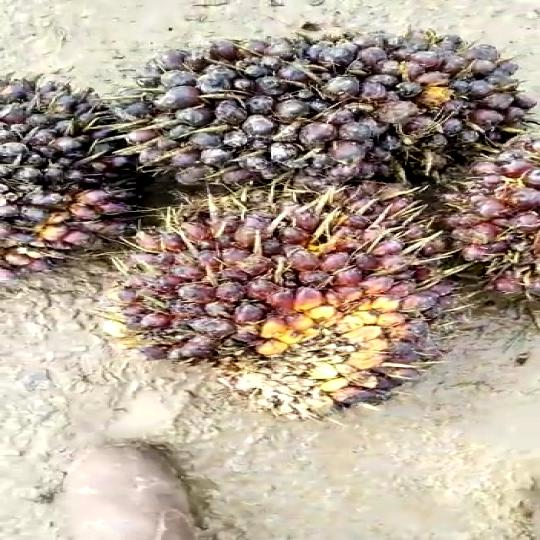kurang masak: (126, 162, 505, 428), (114, 32, 538, 192), (0, 64, 152, 267)
